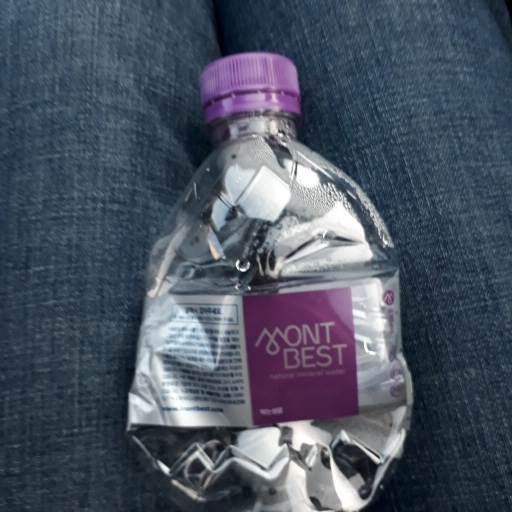Plastic_0: (127, 52, 413, 512)
